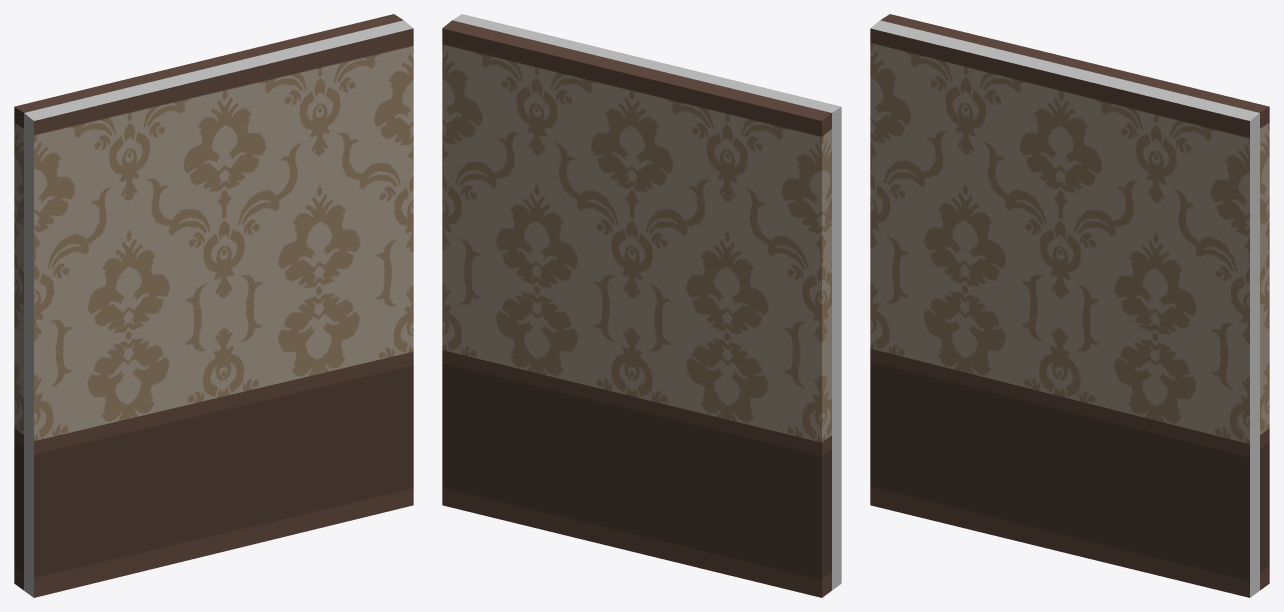
The model's file is WALL INTERIOR 2.fbx.
3 renders of one model, left to right at view 1: azimuth 30°, elevation 25°; view 2: azimuth 150°, elevation 25°; view 3: azimuth 330°, elevation 25°, orthographic.
Visible parts, largest first — view 1: WallInterior2; view 2: WallInterior2; view 3: WallInterior2.
Part boxes in pixels (<box>): WallInterior2: <box>14,14,413,597</box>; WallInterior2: <box>442,14,841,597</box>; WallInterior2: <box>870,14,1269,597</box>.
Bounding box in the file's own units: 250 × 301 × 22.5.
